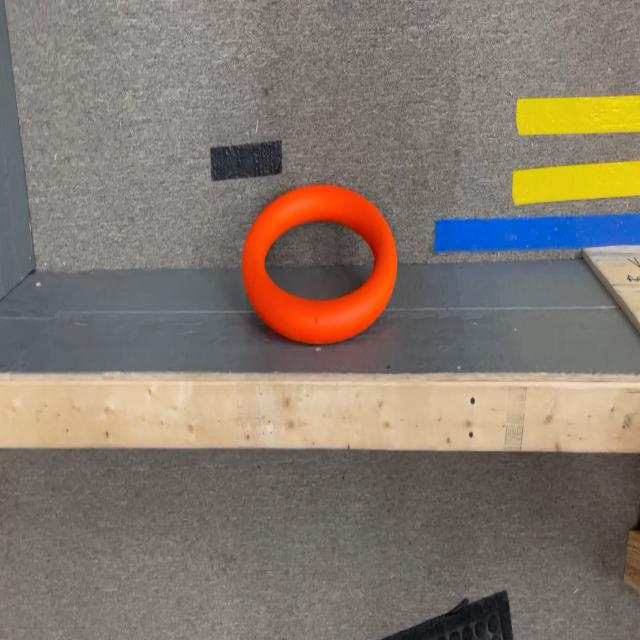note: (242, 186, 398, 343)
